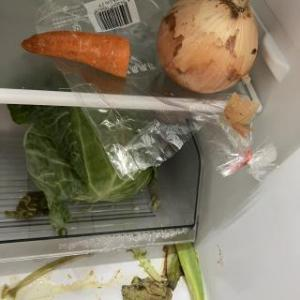cabbage: (6, 104, 162, 232)
carrot: (22, 31, 130, 81)
onion: (156, 1, 262, 96)
